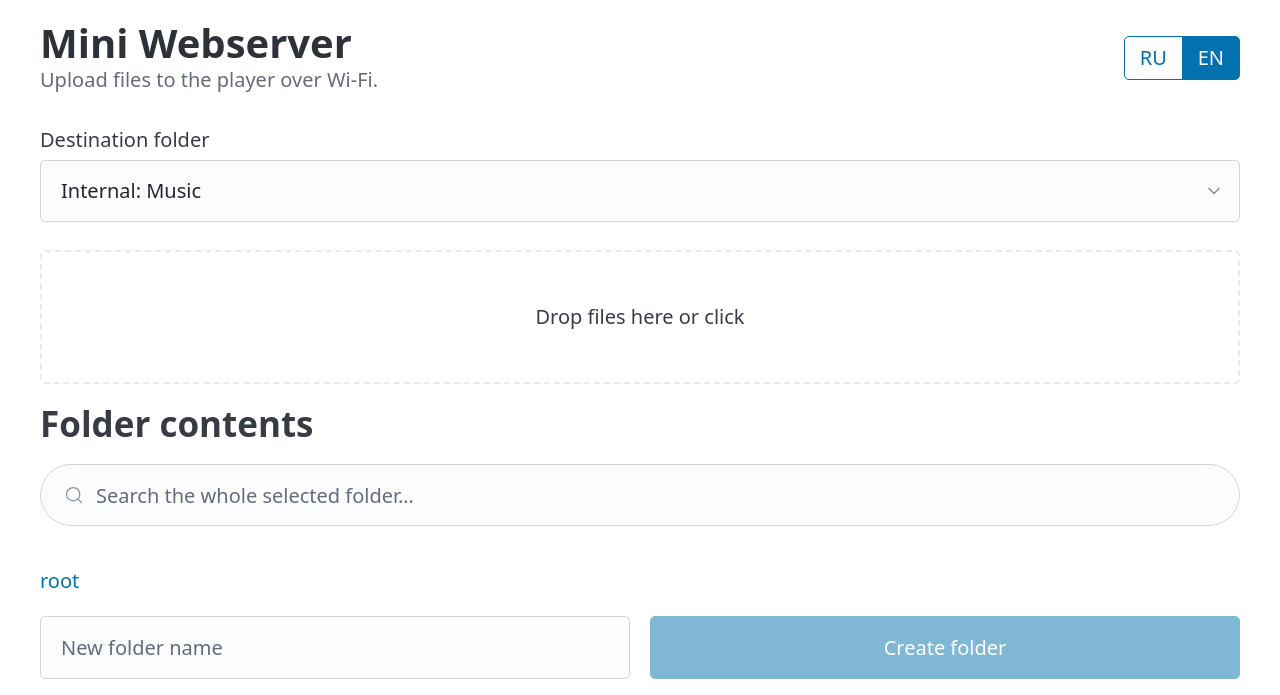
Test: App › shows a toast when creating a folder fails
In the field with placeholder "New folder name": x=335, y=648 [40, 616, 630, 679], type "X"
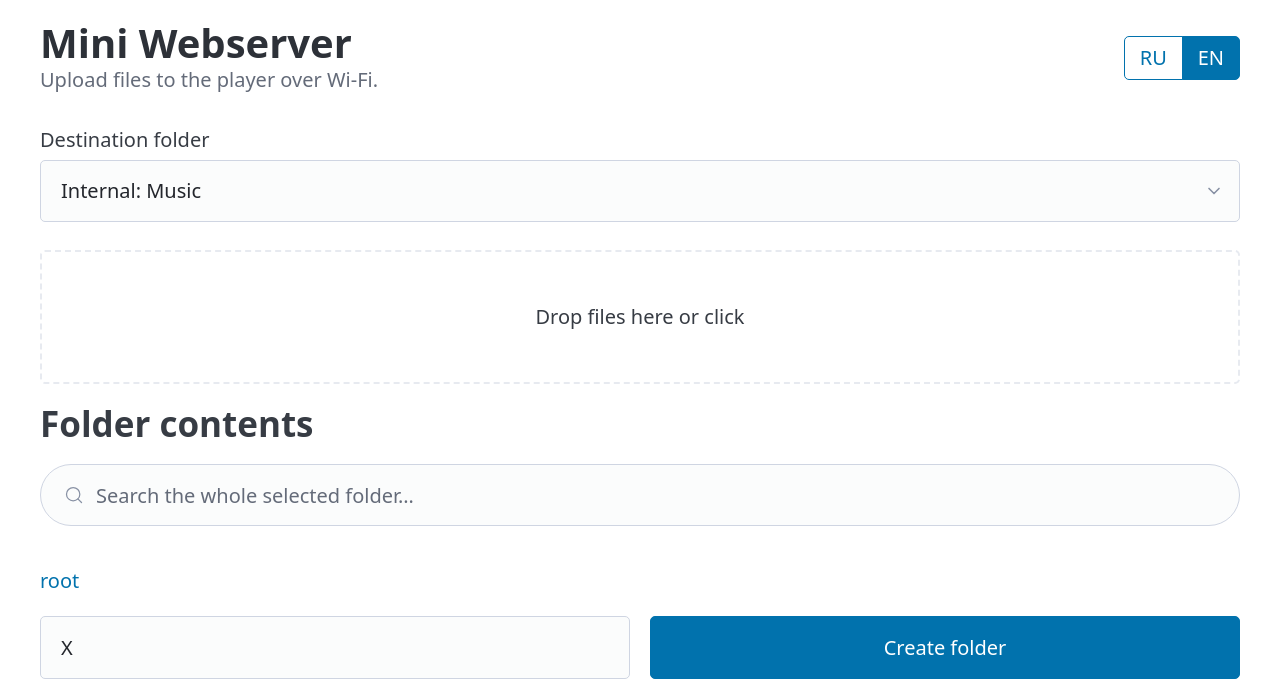
Click the button "Create folder": x=945, y=648 [650, 616, 1240, 679]
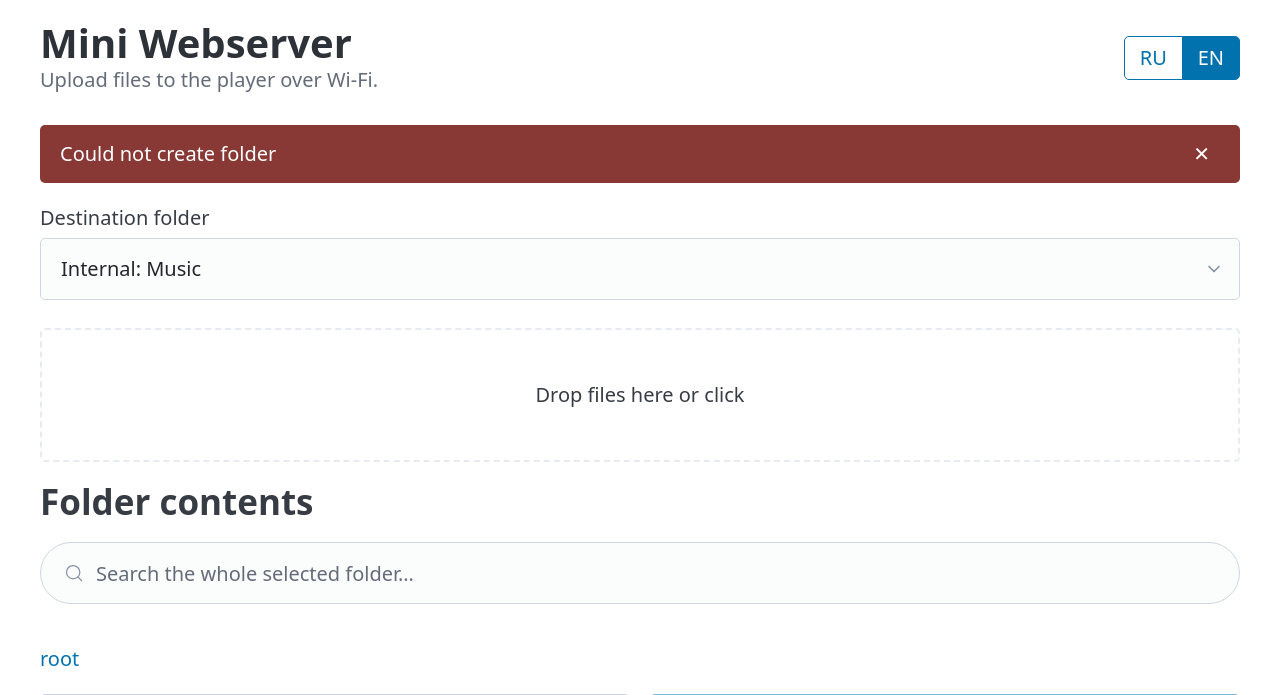
Result: the message shows "Could not create folder" at [60, 140, 276, 167]
